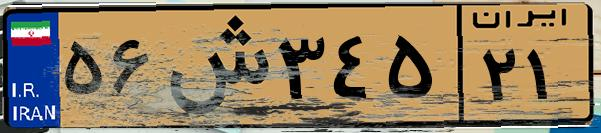1: (525, 38, 570, 115)
2: (475, 38, 525, 113)
3: (270, 28, 330, 110)
4: (330, 28, 385, 110)
5: (385, 28, 445, 110), (57, 26, 110, 100)
6: (110, 28, 158, 98)
ش: (158, 12, 270, 120)
